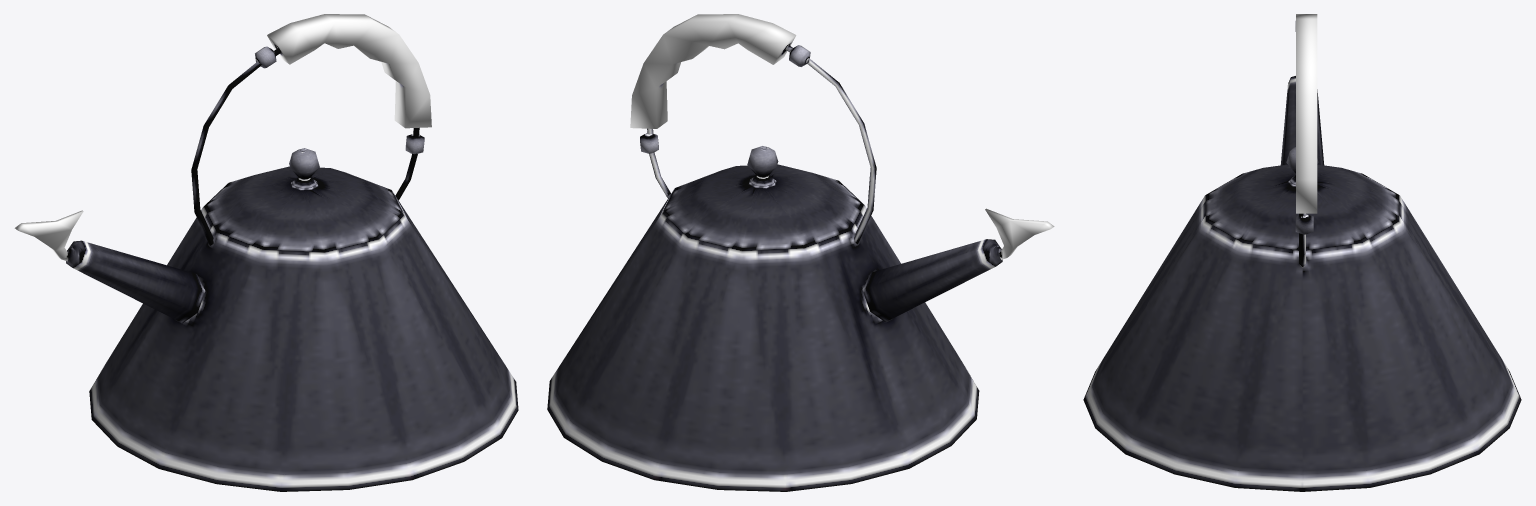
Rendered from TablewareF.FBX.
3 views of the same model, side by side, from view 1: azimuth 30°, elevation 25°; view 2: azimuth 150°, elevation 25°; view 3: azimuth 270°, elevation 25° (orthographic).
Visible parts, largest first — view 1: TablewareF; view 2: TablewareF; view 3: TablewareF.
Part boxes in pixels (x1,y1,x2,y2): TablewareF: [14, 14, 518, 491]; TablewareF: [547, 14, 1054, 491]; TablewareF: [1083, 14, 1521, 491].
Size of the model in its own units: 39.23 by 31.07 by 29.59.
